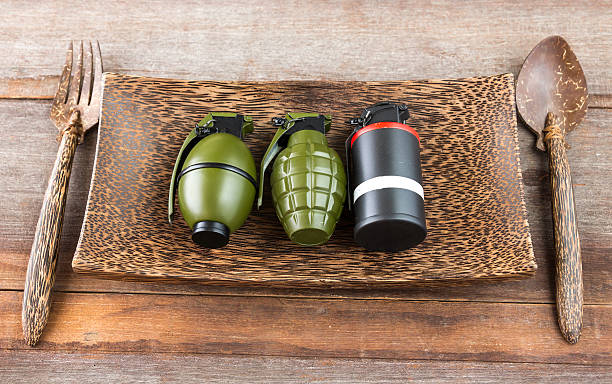e1: (346, 101, 427, 252), (262, 110, 347, 247), (170, 110, 256, 245)
